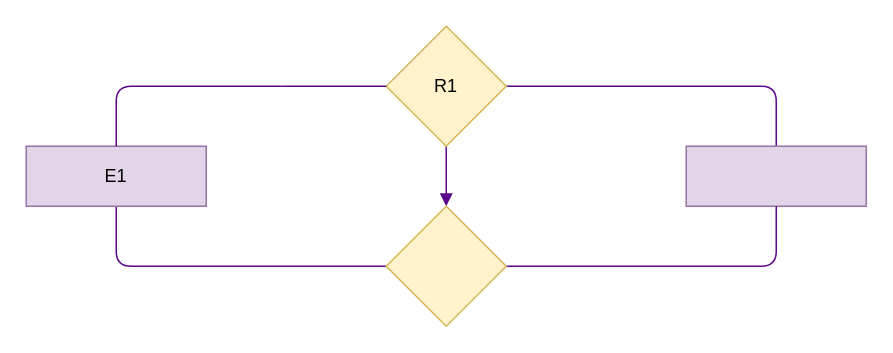
This 893x353 diagram has some shape labels left out. Each missing label, with the box of its shape:
E2: (685, 145, 866, 206)
R2: (385, 205, 506, 326)
